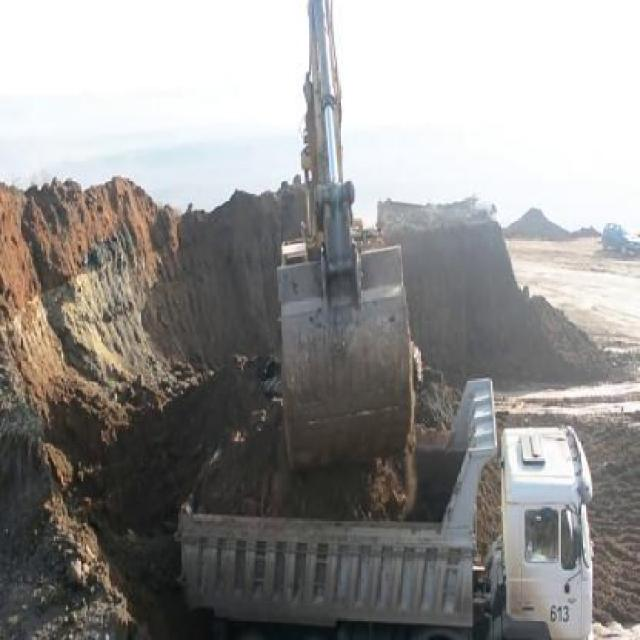dump_truck: (171, 370, 595, 639)
excavator: (268, 0, 422, 458)
